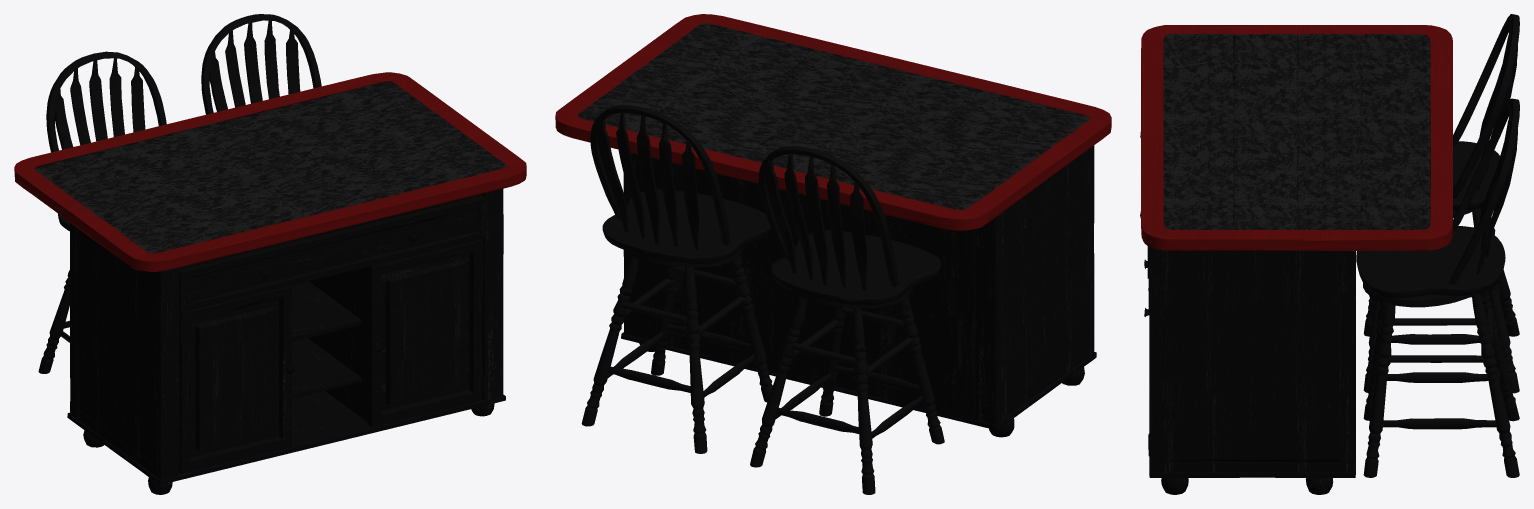
File: LOON6775_v6_LOD2.obj
The picture shows the model from 3 angles, left to right: view 1: azimuth 30°, elevation 25°; view 2: azimuth 150°, elevation 25°; view 3: azimuth 270°, elevation 25°; orthographic projection. The views are drawn at different scales.
Parts seen in each view (by area): view 1: not_clear_obj_1_v6, not_clear_obj_3_v6, not_clear_obj_2_v6, not_clear_obj_0_v6; view 2: not_clear_obj_1_v6, not_clear_obj_0_v6, not_clear_obj_3_v6, not_clear_obj_2_v6; view 3: not_clear_obj_3_v6, not_clear_obj_1_v6, not_clear_obj_0_v6, not_clear_obj_2_v6.
Part boxes in pixels (x1=…): not_clear_obj_1_v6: x1=67, y1=189, x2=505, y2=494; not_clear_obj_3_v6: x1=34, y1=81, x2=507, y2=253; not_clear_obj_2_v6: x1=14, y1=72, x2=526, y2=271; not_clear_obj_0_v6: x1=38, y1=14, x2=321, y2=373; not_clear_obj_1_v6: x1=621, y1=145, x2=1096, y2=437; not_clear_obj_0_v6: x1=581, y1=105, x2=944, y2=494; not_clear_obj_3_v6: x1=577, y1=23, x2=1090, y2=210; not_clear_obj_2_v6: x1=555, y1=14, x2=1111, y2=230; not_clear_obj_3_v6: x1=1163, y1=34, x2=1430, y2=229; not_clear_obj_1_v6: x1=1140, y1=132, x2=1355, y2=494; not_clear_obj_0_v6: x1=1356, y1=14, x2=1519, y2=477; not_clear_obj_2_v6: x1=1141, y1=25, x2=1452, y2=250.
Size of what is drawn, in the model's own units: 152 by 113 by 114.
Materials: 5 (3 with a texture image).
